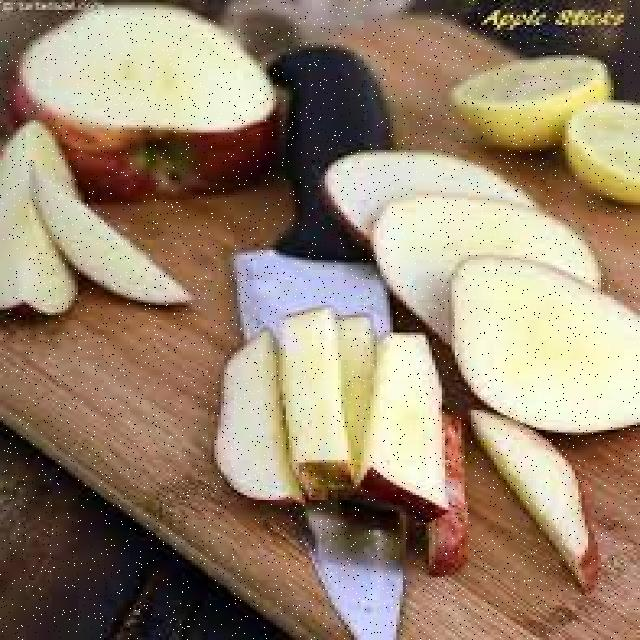Apple: (15, 15, 278, 200), (448, 258, 640, 430), (370, 195, 612, 313), (42, 166, 195, 296), (495, 430, 610, 594), (320, 145, 542, 218), (373, 326, 452, 531), (278, 306, 362, 489), (214, 334, 300, 510), (0, 123, 76, 320), (334, 298, 376, 460), (435, 411, 470, 582)
